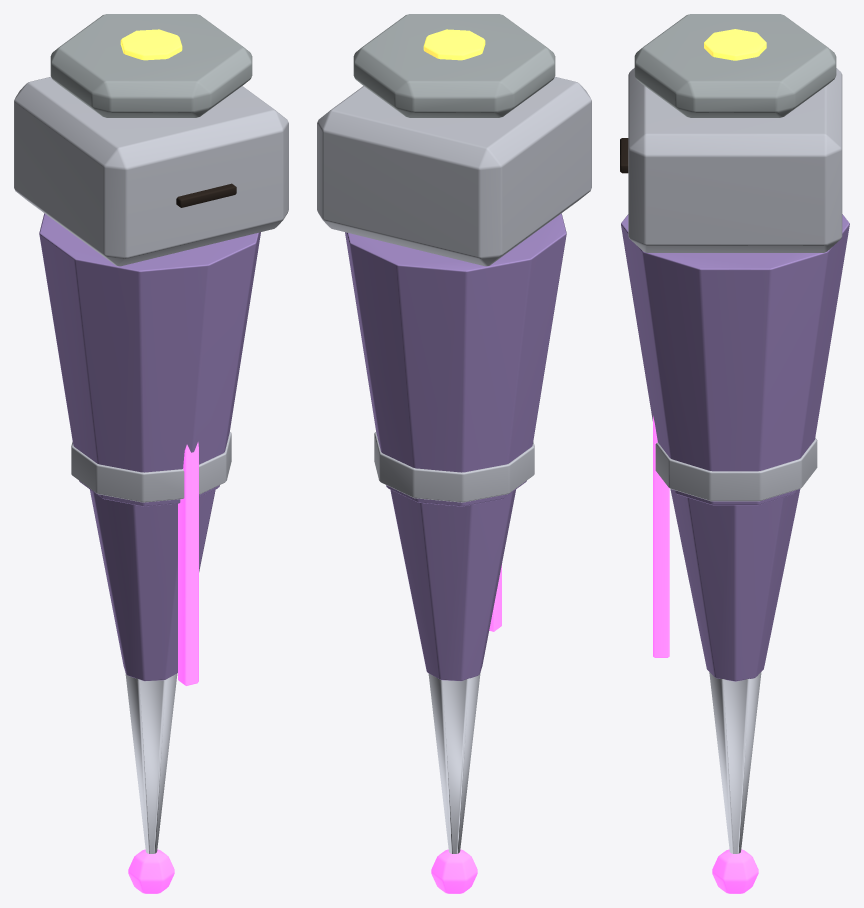
The model's file is silksteel_arm_needle.glb.
3 renders of one model, left to right at view 1: azimuth 30°, elevation 25°; view 2: azimuth 150°, elevation 25°; view 3: azimuth 270°, elevation 25°, orthographic.
Visible parts, largest first — view 1: silksteel_arm_needle; view 2: silksteel_arm_needle; view 3: silksteel_arm_needle.
Boxes of the visible parts, box(x1,y1,x2,y2) form: silksteel_arm_needle: box(14, 14, 288, 893); silksteel_arm_needle: box(317, 14, 591, 893); silksteel_arm_needle: box(620, 14, 849, 893).
Size of the model in its own units: 0.2657 by 1.14 by 0.279.
Materials: 1 (1 with a texture image).
